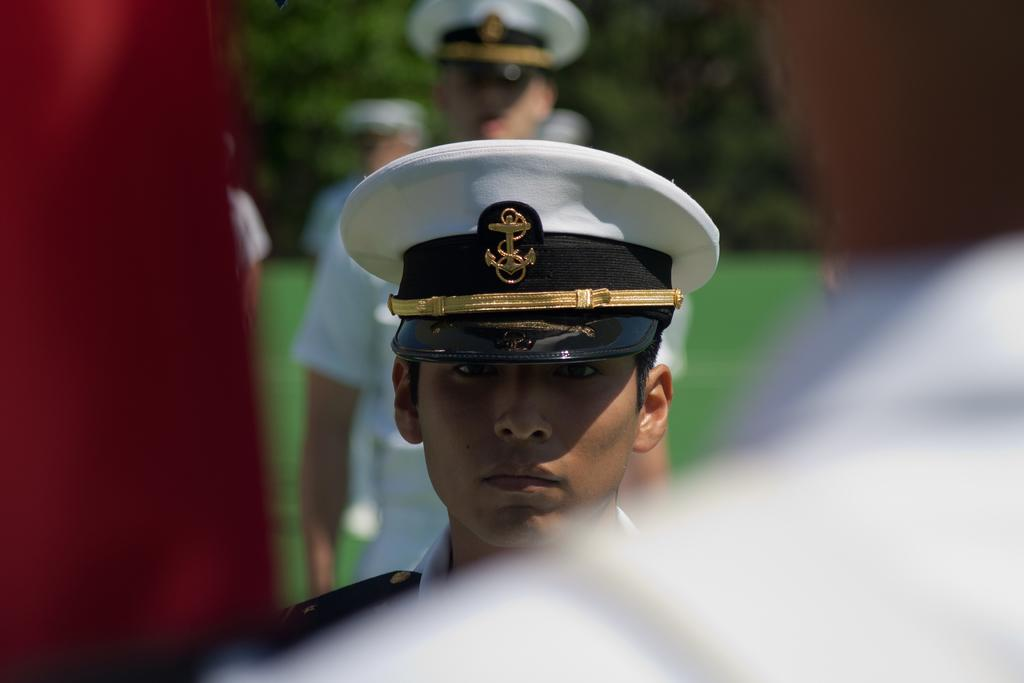Hat: (338, 138, 719, 366), (406, 0, 586, 83)
